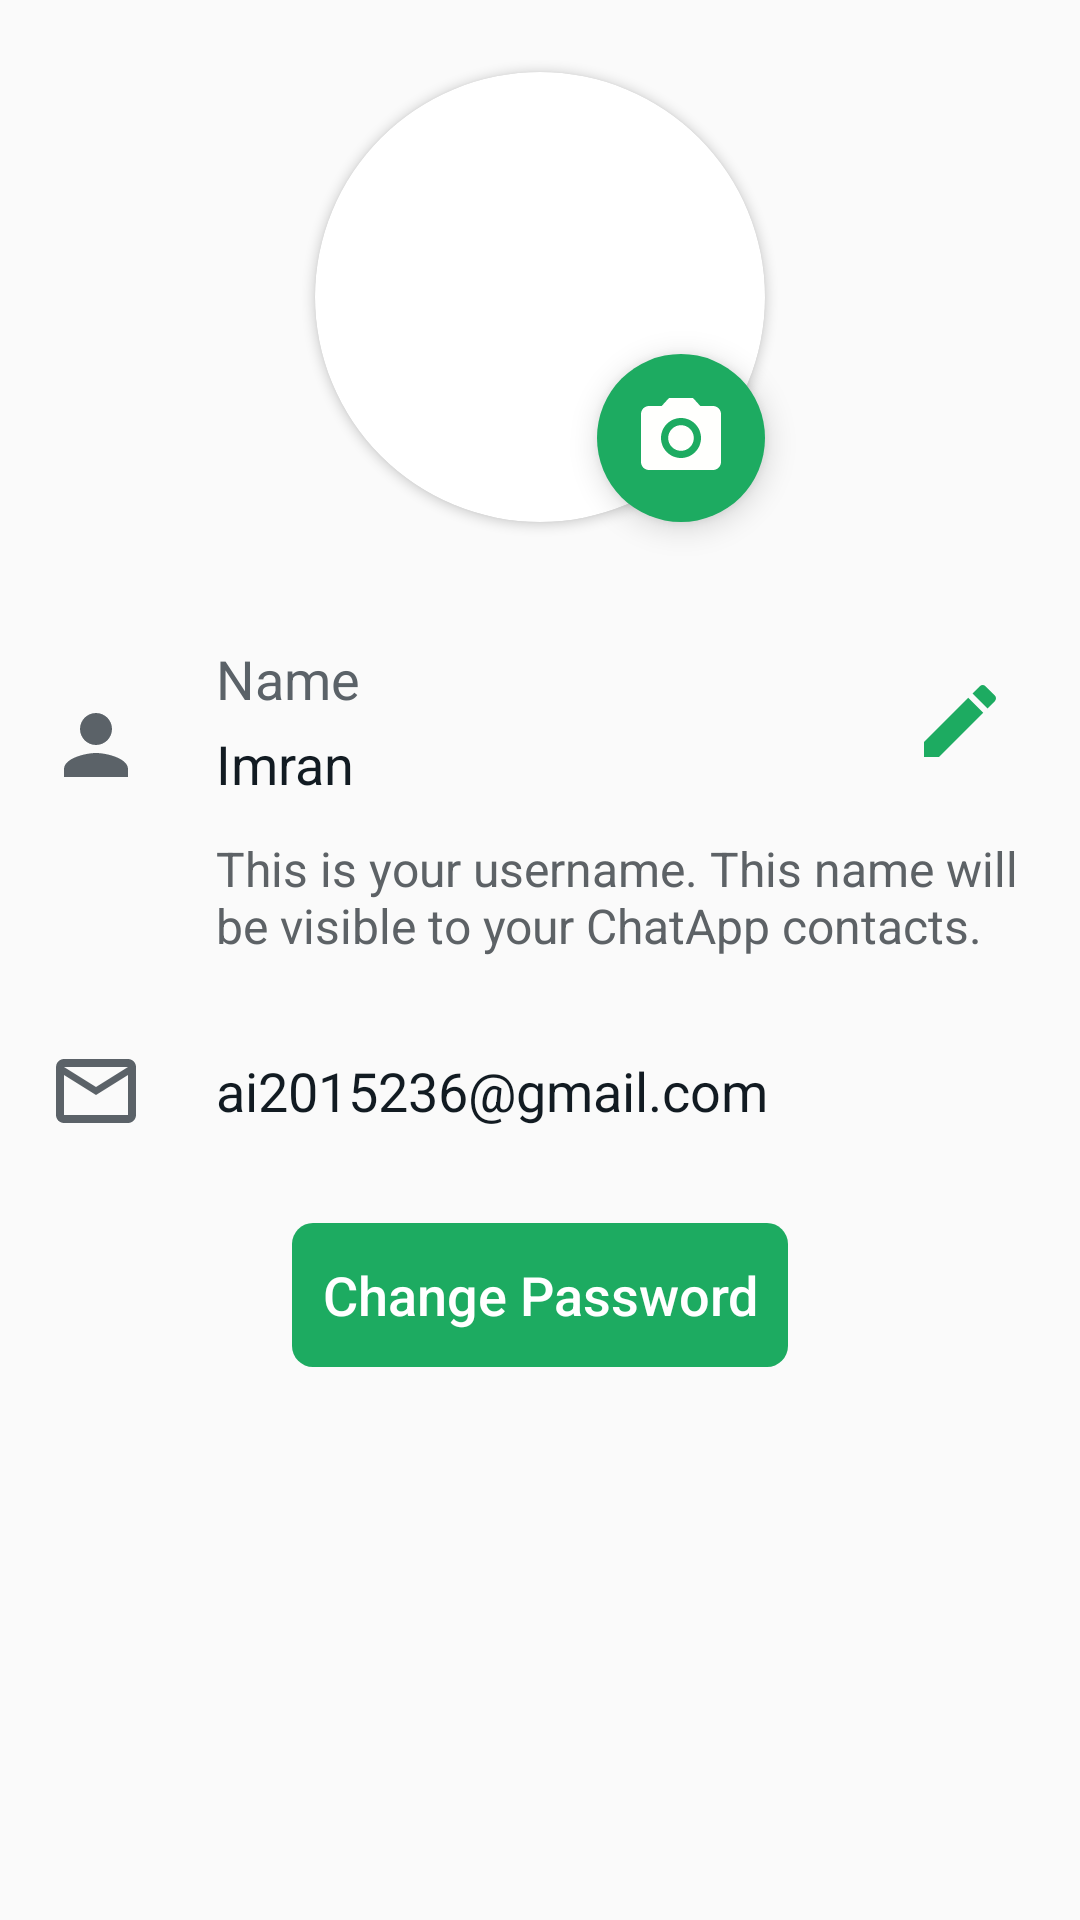

Named icons in this screenshot (1080px×1920px) and their centers, (x,y):
edit: (960,721)
person: (96,745)
photo camera: (681,438)
